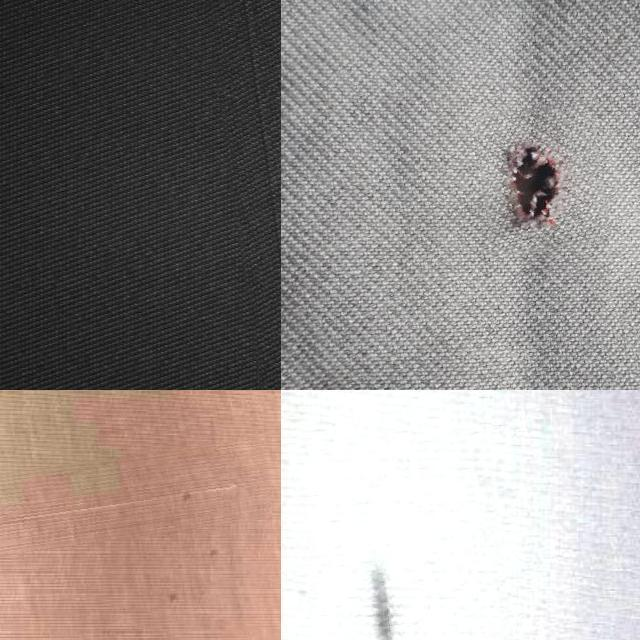Thread_other: (300, 431, 522, 640), (0, 448, 271, 555), (212, 0, 281, 390)
seam: (478, 102, 606, 253)
